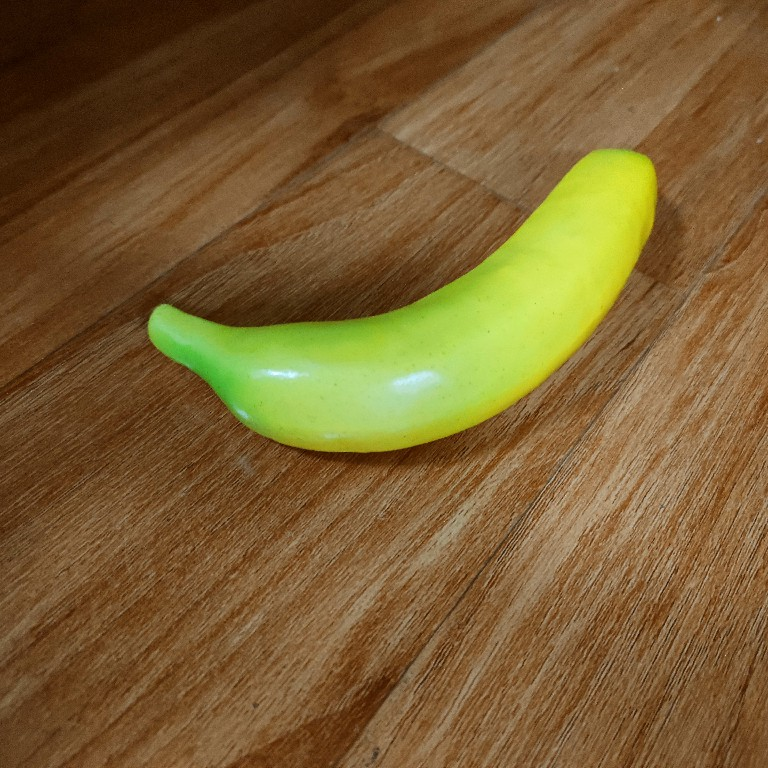fruit_banana: (143, 144, 661, 457)
